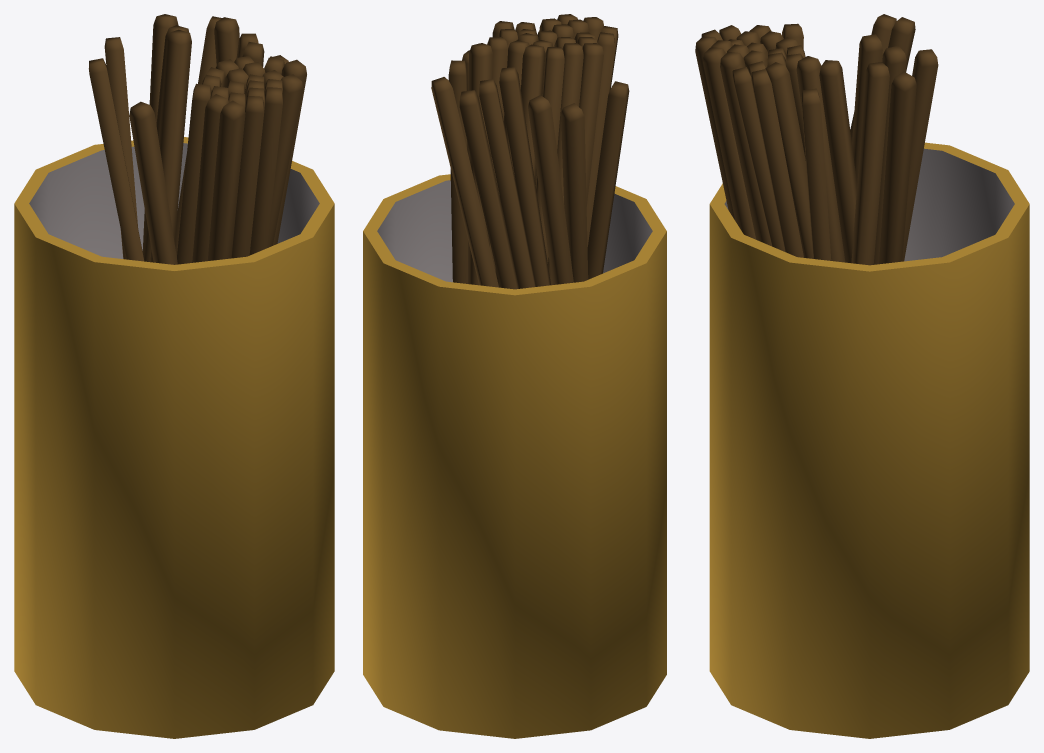
File: ChopstickHolder.glb
3 renders of one model, left to right at view 1: azimuth 30°, elevation 25°; view 2: azimuth 150°, elevation 25°; view 3: azimuth 270°, elevation 25°, orthographic. The views are drawn at different scales.
Visible parts, largest first — view 1: Cube.028; view 2: Cube.028; view 3: Cube.028.
Boxes of the visible parts, bbox=[...] form: Cube.028: bbox=[14, 14, 334, 738]; Cube.028: bbox=[363, 14, 666, 738]; Cube.028: bbox=[695, 14, 1029, 738].
Bounding box in the file's own units: 0.2172 × 0.4767 × 0.227.
